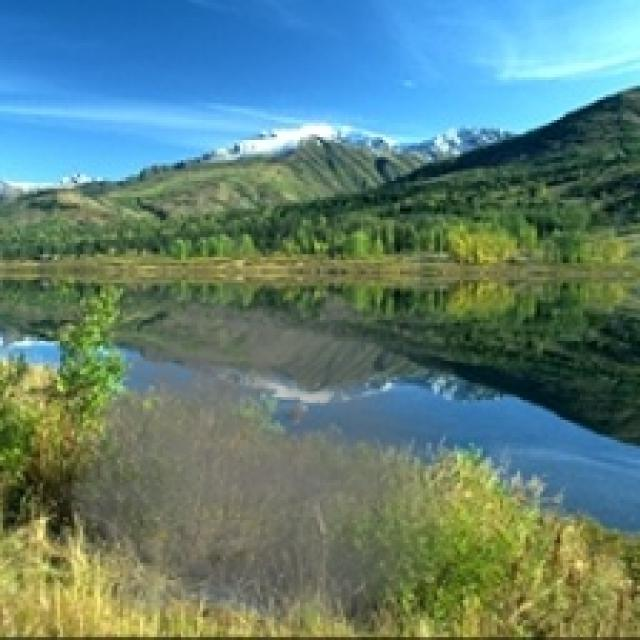smoke: (43, 277, 457, 637)
